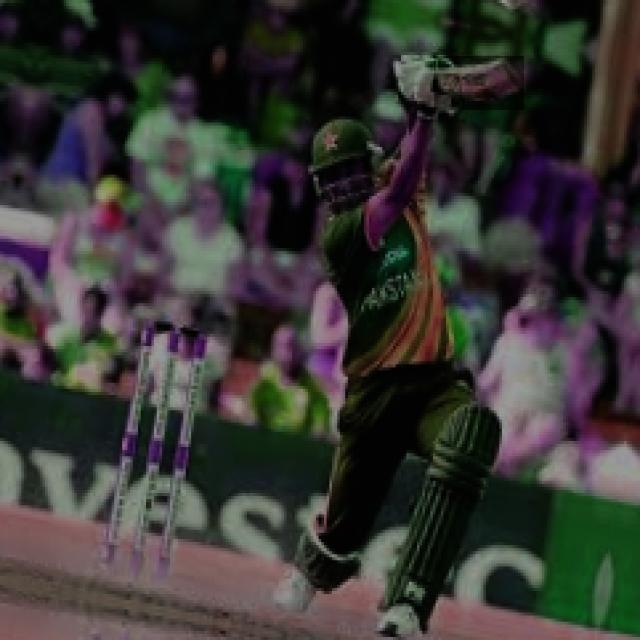bat: (434, 55, 525, 106)
toe: (495, 55, 526, 91)
